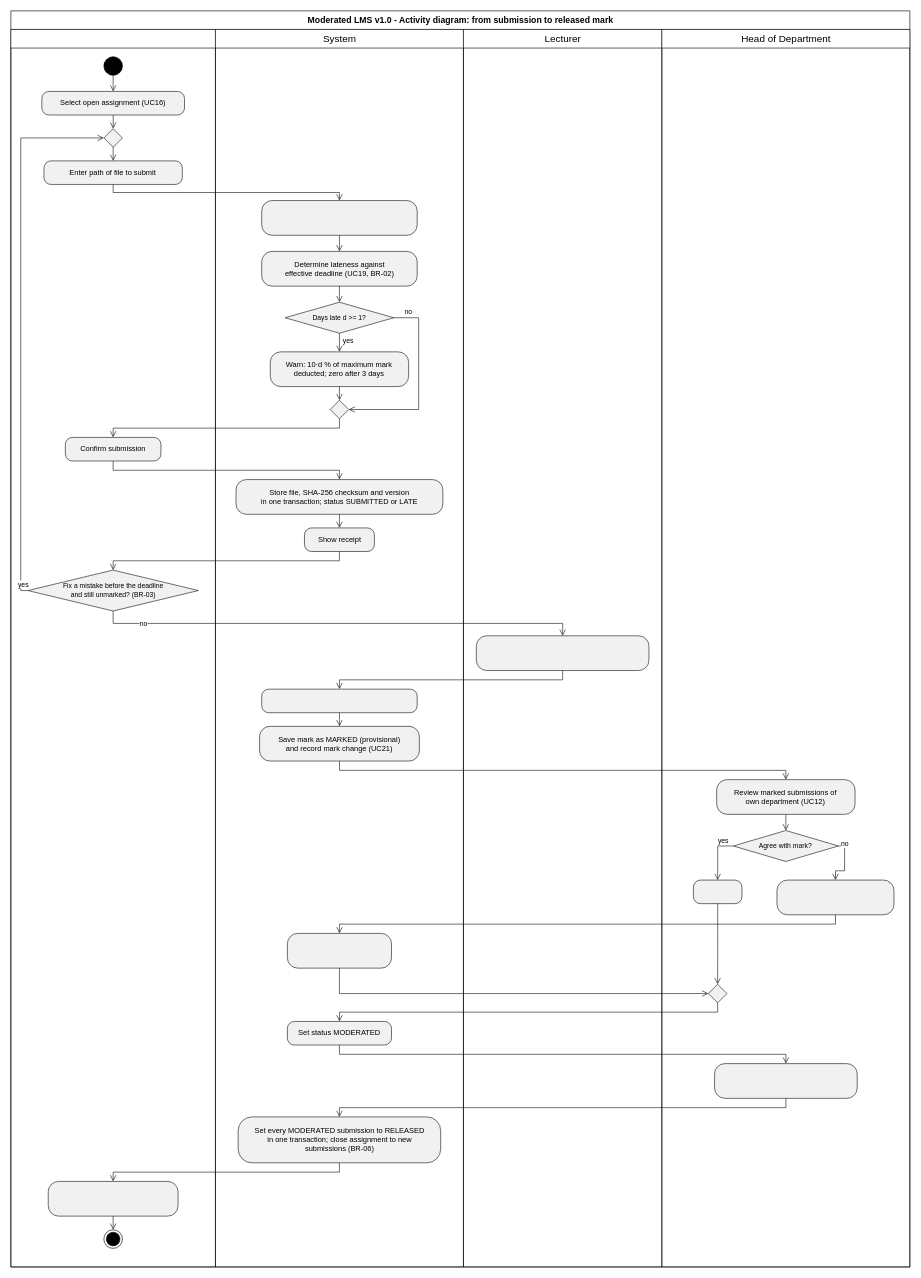
The diagram is 921 pixels wide and 1278 high, and some of its shapes have lost their labels. The shapes that lost their labels are listed below. From the top down, each one's box as (x1, y1, x2, y2) in pixels, then its label:
(261, 200, 417, 235): Validate file (exists, readable, not empty, at most 10 MB)
(10, 29, 215, 1267): Student
(476, 635, 649, 671): Select submission and enter raw mark and written feedback (UC11)
(261, 689, 417, 713): Apply late penalty (UC20, BR-01)
(693, 879, 742, 904): Approve
(776, 879, 894, 915): Amend raw mark with mandatory reason (UC13)
(287, 933, 392, 968): Re-apply penalty and record mark change
(714, 1063, 857, 1098): Release moderated marks of the assignment and confirm
(48, 1181, 178, 1216): View final mark, deduction and feedback (UC18)
